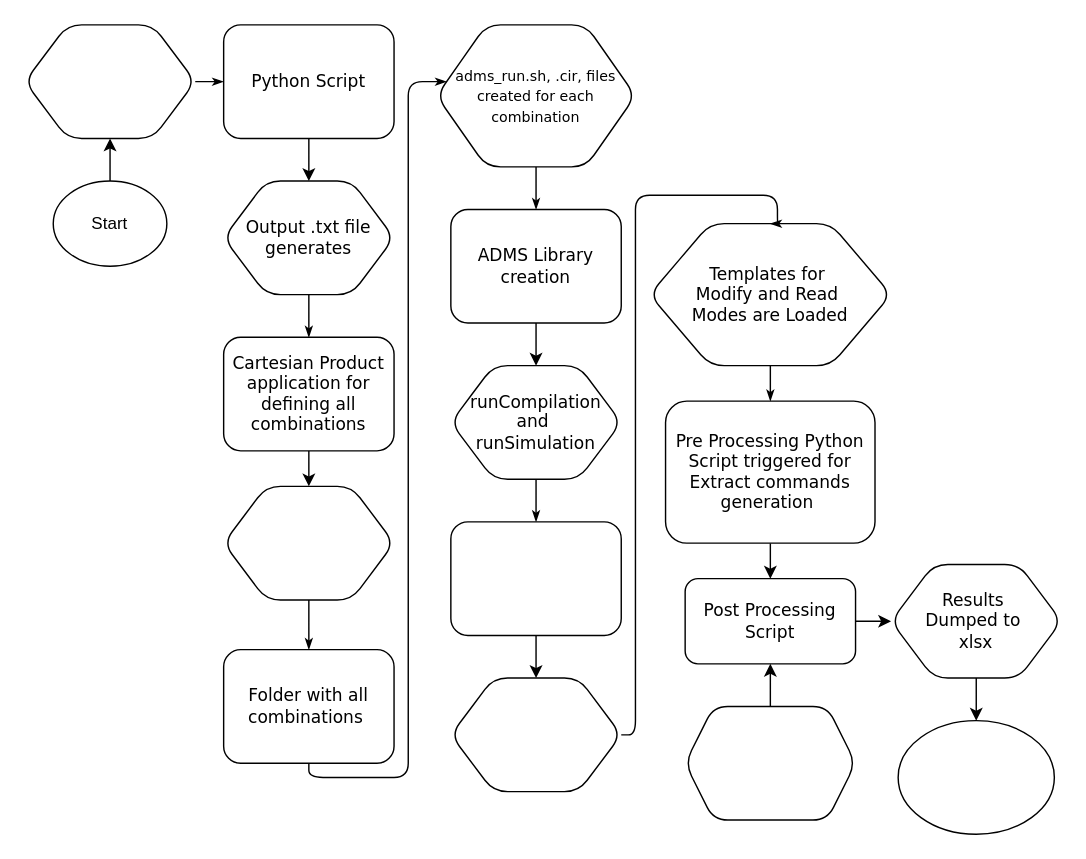
The diagram is 1086 pixels wide and 859 high, and some of its shapes have lost their labels. Each missing label, with the centre of its shape:
.wdparam + .aexparam: [770,762]
.xlsx input file: [109,80]
End: [975,776]
Input to Folder Creation Script: [308,542]
PSF folder Creation: [535,577]
Simulation Launch: [535,734]
